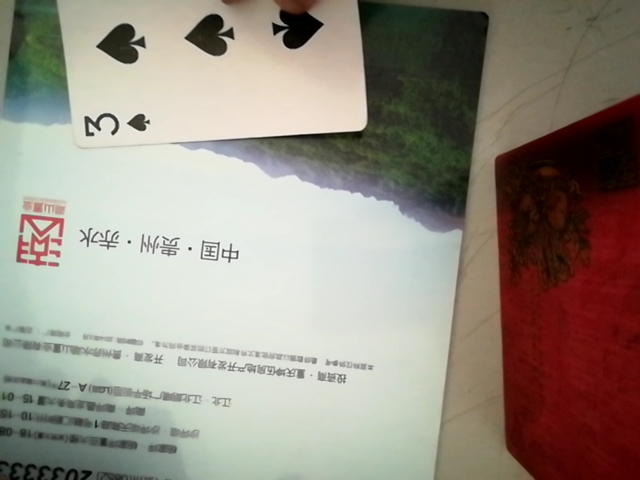ht 3: (54, 0, 369, 148)
